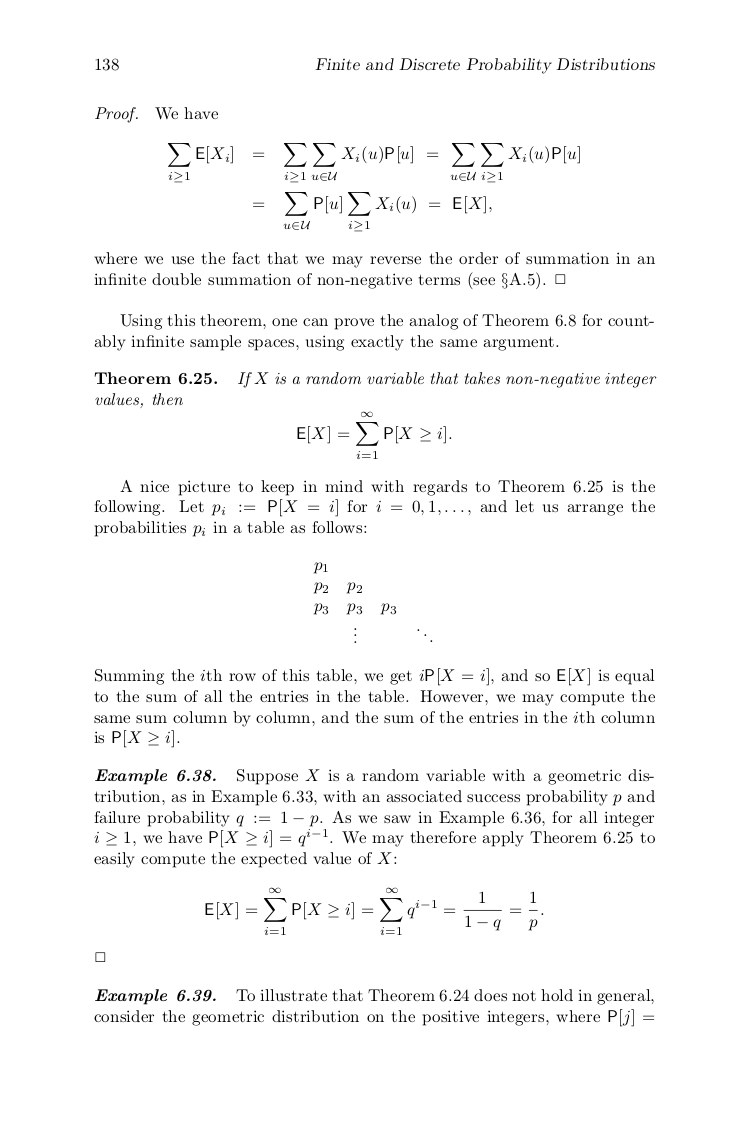formula: (205, 886, 543, 935), (168, 143, 579, 182), (313, 562, 432, 642), (253, 192, 491, 231), (297, 411, 451, 458)
